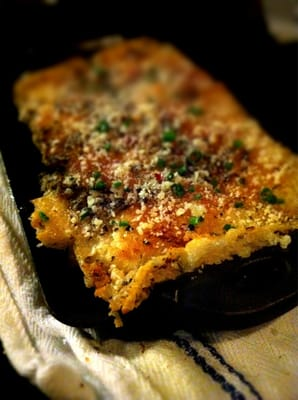sandwich: (8, 36, 297, 319)
